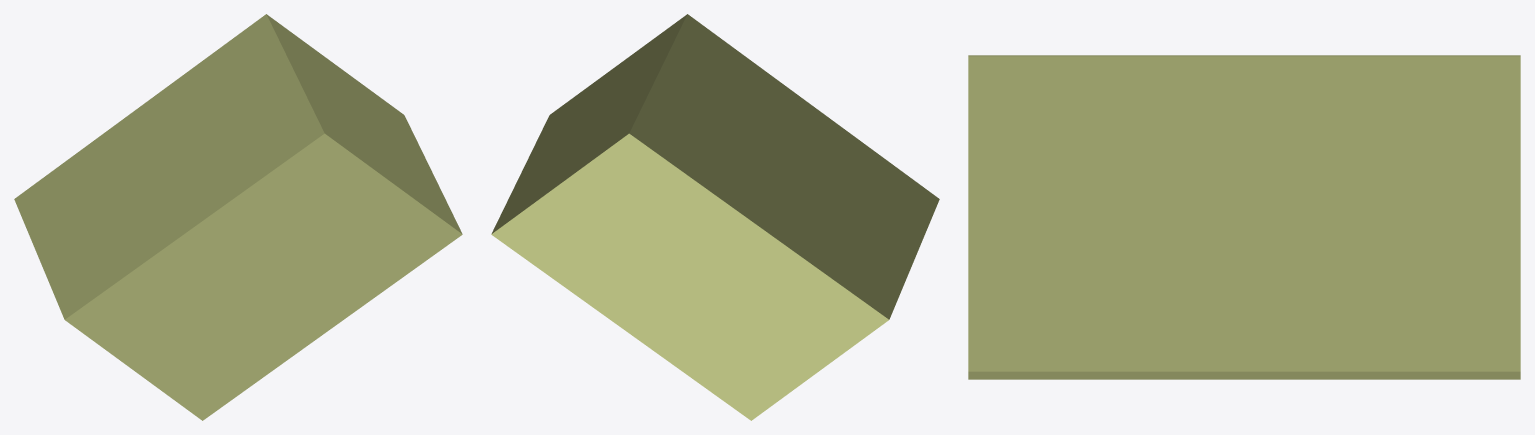
3 renders of one model, left to right at view 1: azimuth 30°, elevation 25°; view 2: azimuth 150°, elevation 25°; view 3: azimuth 270°, elevation 25°, orthographic. The views are drawn at different scales.
Visible parts, largest first — view 1: 0_1_0_2_1_3_1_3_2_0_2; view 2: 0_1_0_2_1_3_1_3_2_0_2; view 3: 0_1_0_2_1_3_1_3_2_0_2.
Part boxes in pixels (x1,y1,x2,y2): 0_1_0_2_1_3_1_3_2_0_2: (14, 14, 462, 420); 0_1_0_2_1_3_1_3_2_0_2: (491, 14, 939, 420); 0_1_0_2_1_3_1_3_2_0_2: (968, 55, 1520, 379).
Size of the model in its own units: 7.79 by 6.16 by 6.
